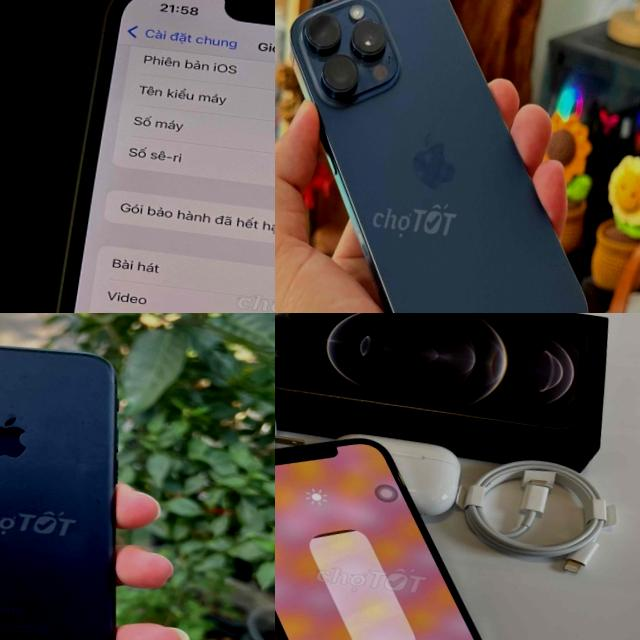gen_12_13: (13, 0, 275, 313), (275, 418, 545, 640)
gen_15: (275, 0, 632, 313)
gen_7_8: (0, 325, 165, 640)
scratch: (0, 342, 101, 361), (89, 481, 107, 507), (370, 16, 381, 27)
